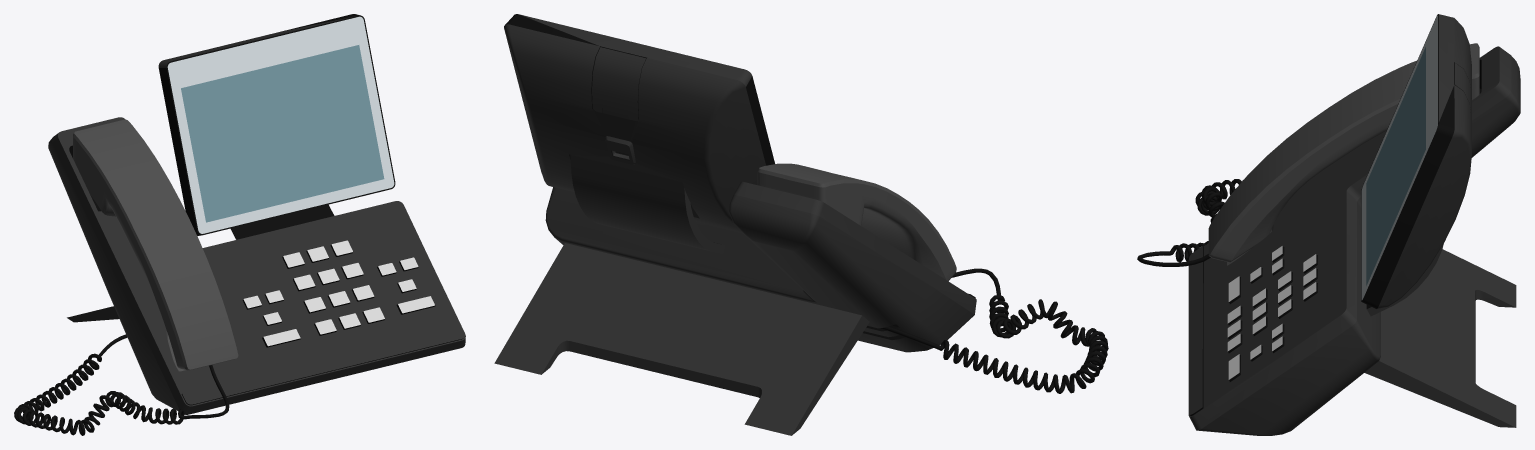
The model's file is  SM_Env_DeskPhone_Var.fbx.
3 views of the same model, side by side, from view 1: azimuth 30°, elevation 25°; view 2: azimuth 150°, elevation 25°; view 3: azimuth 270°, elevation 25° (orthographic). The views are drawn at different scales.
Visible parts, largest first — view 1: DeskPhone; view 2: DeskPhone; view 3: DeskPhone.
Part boxes in pixels (x1,y1,x2,y2): DeskPhone: (14,14,465,435); DeskPhone: (494,14,1108,435); DeskPhone: (1137,14,1520,435).
Bounding box in the file's own units: 0.3788 × 0.2287 × 0.2549.
